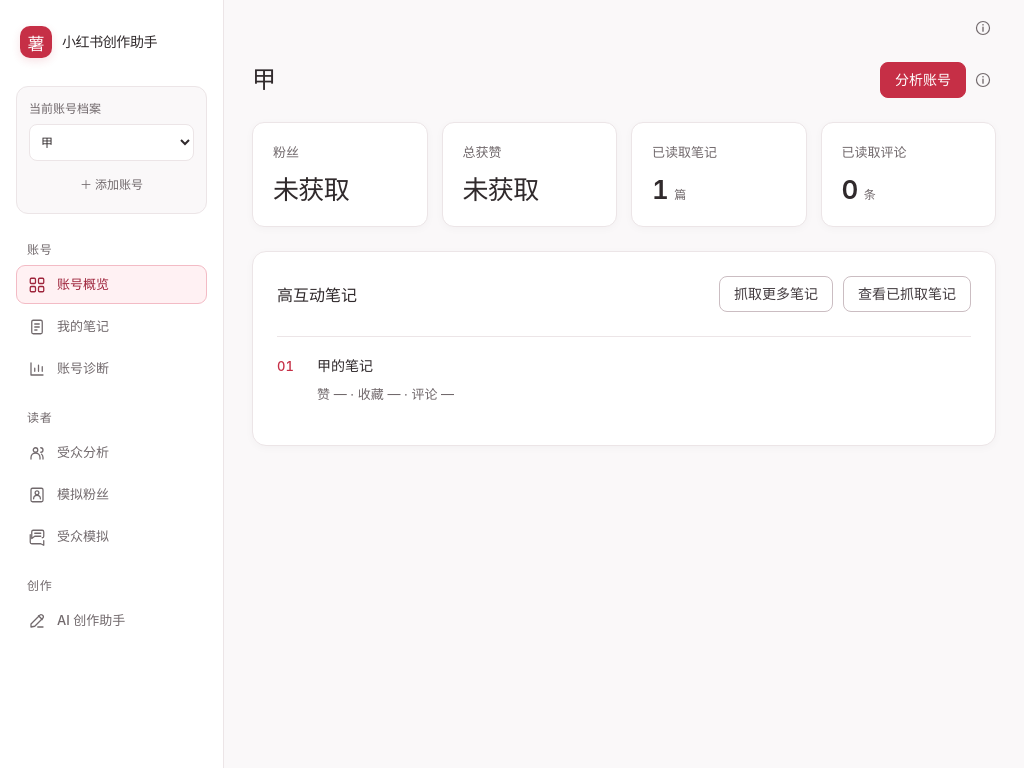
diagnosis history on the public diagnosis page › keeps old history separate when the current creation fails
This screenshot has width=1024, height=768.
expect the text "甲的笔记" is shown: met, box [317,357,373,374]
Click the button "账号诊断".
click(112, 368)  # box [16,349,207,388]
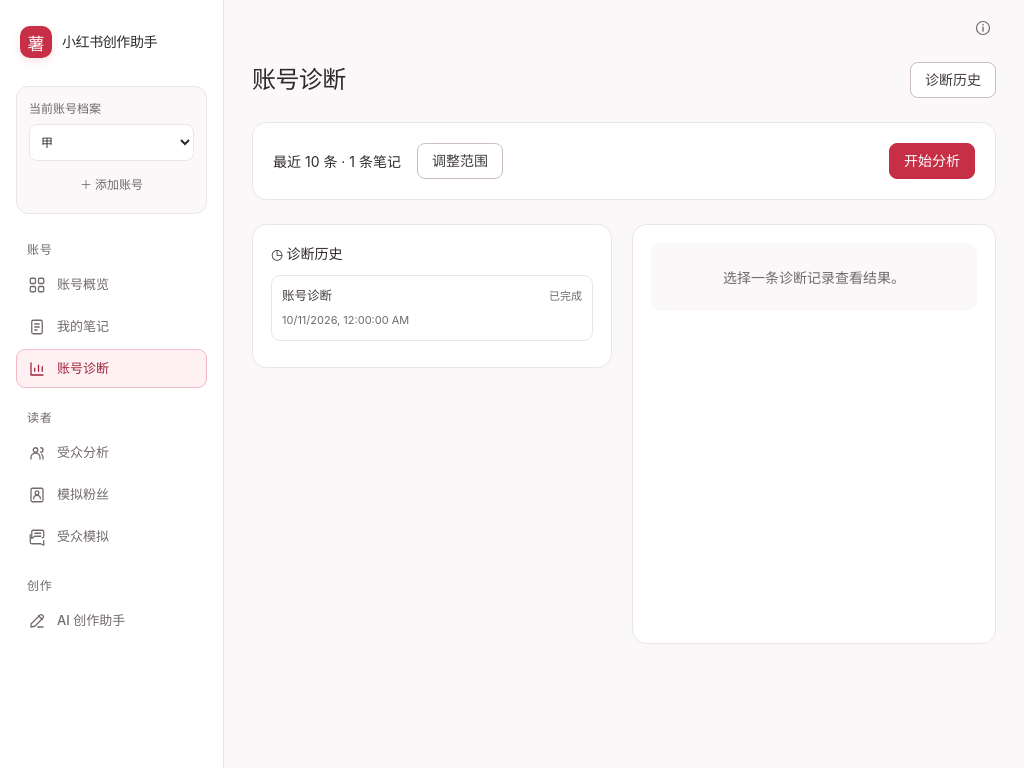
Click the button "账号诊断 已完成 10/11/2026, 12:00:00 AM".
click(307, 296)  # box [271,275,593,341]
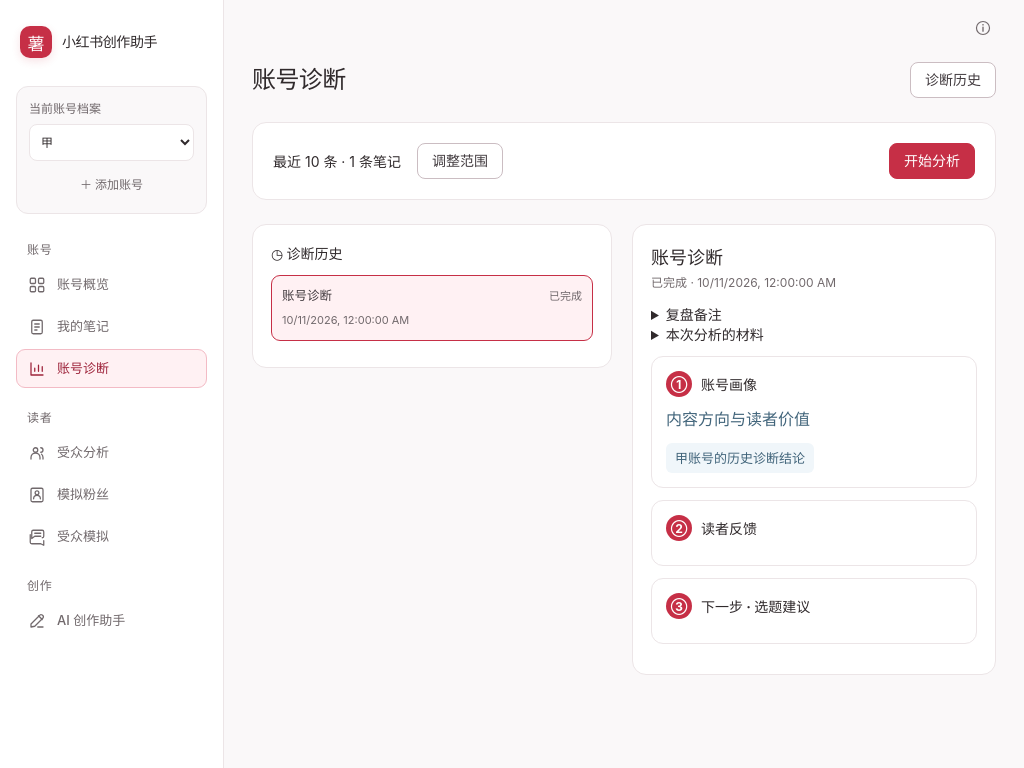
expect the text "甲账号的历史诊断结论" is shown: met, box [666,443,814,473]
Click the button "开始分析".
click(932, 161)  # box [889,143,975,179]
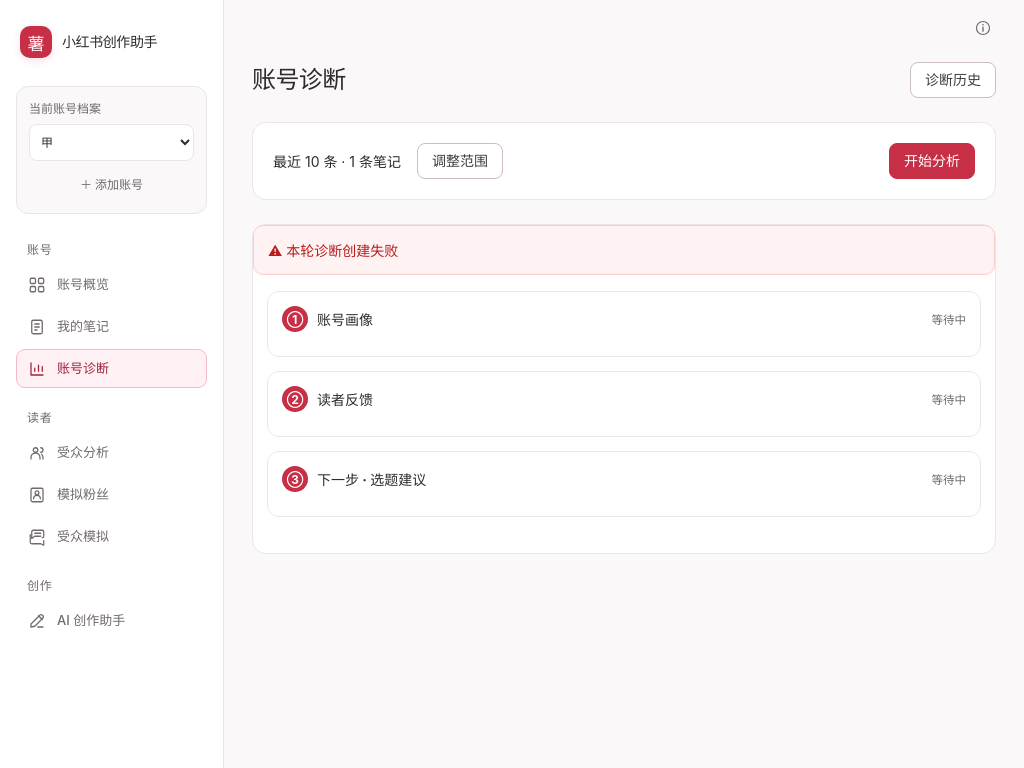
expect the text "⚠ 本轮诊断创建失败" is shown: met, box [253,225,995,275]
expect the text "甲账号的历史诊断结论" is gone: met
Click the button "诊断历史".
click(953, 80)  # box [910,62,996,98]
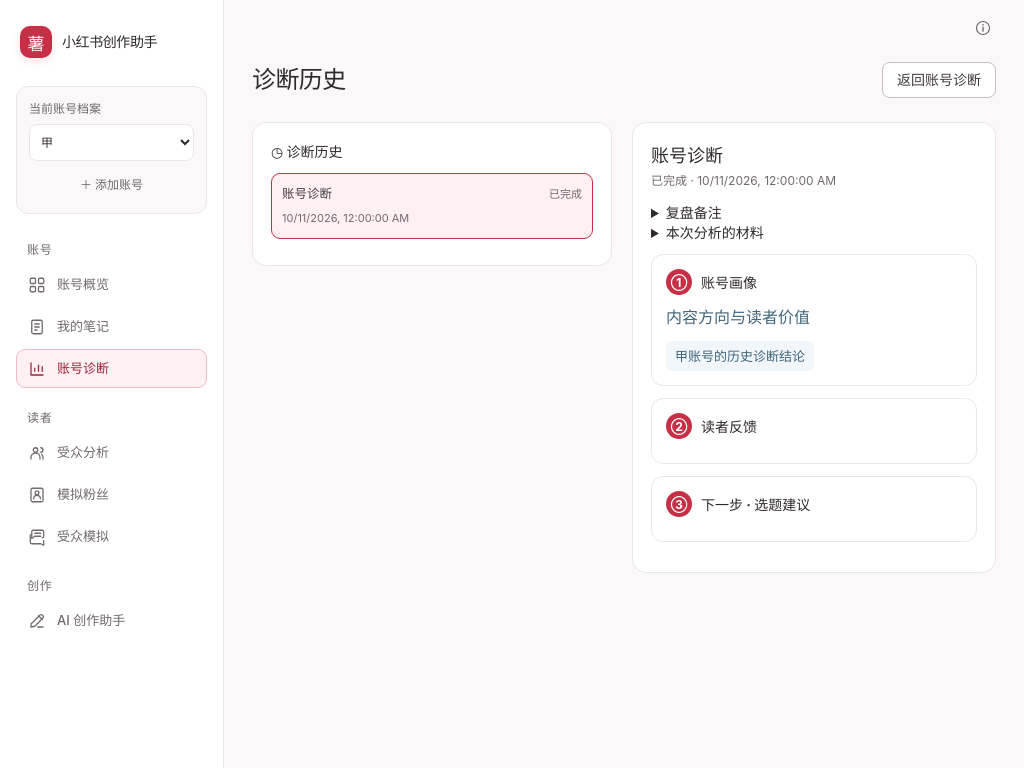
expect the text "甲账号的历史诊断结论" is shown: met, box [666,341,814,371]
Click the button "账号诊断".
click(112, 368)  # box [16,349,207,388]
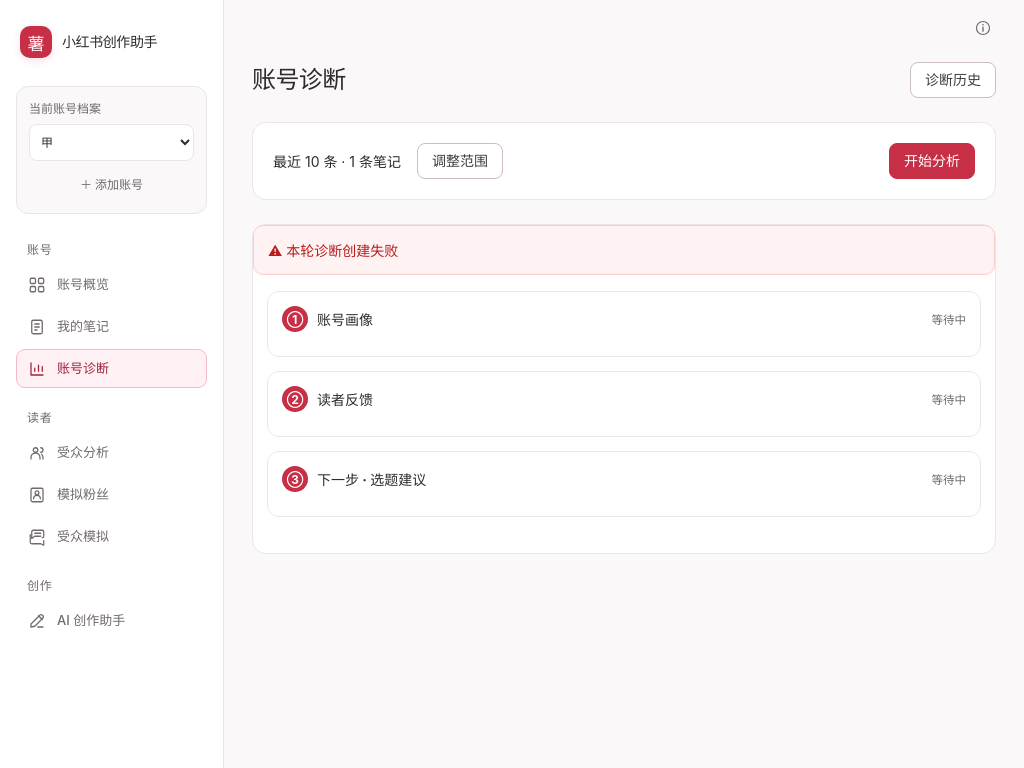
expect the text "甲账号的历史诊断结论" is gone: met
